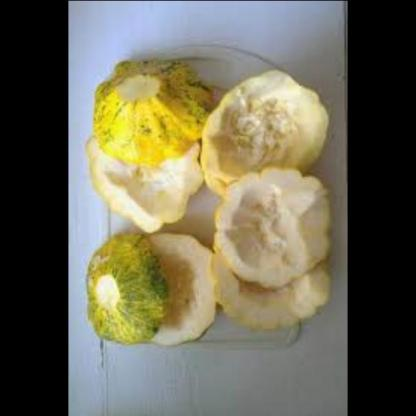squash-patisson: (192, 59, 333, 185), (81, 113, 210, 232), (88, 52, 224, 161), (208, 165, 335, 281), (135, 226, 219, 347), (82, 233, 164, 350), (204, 254, 331, 327)
